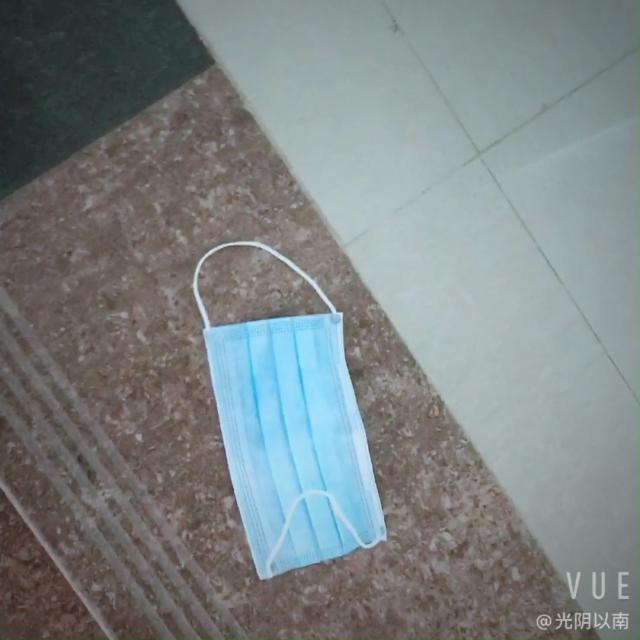face mask: (194, 300, 393, 586)
